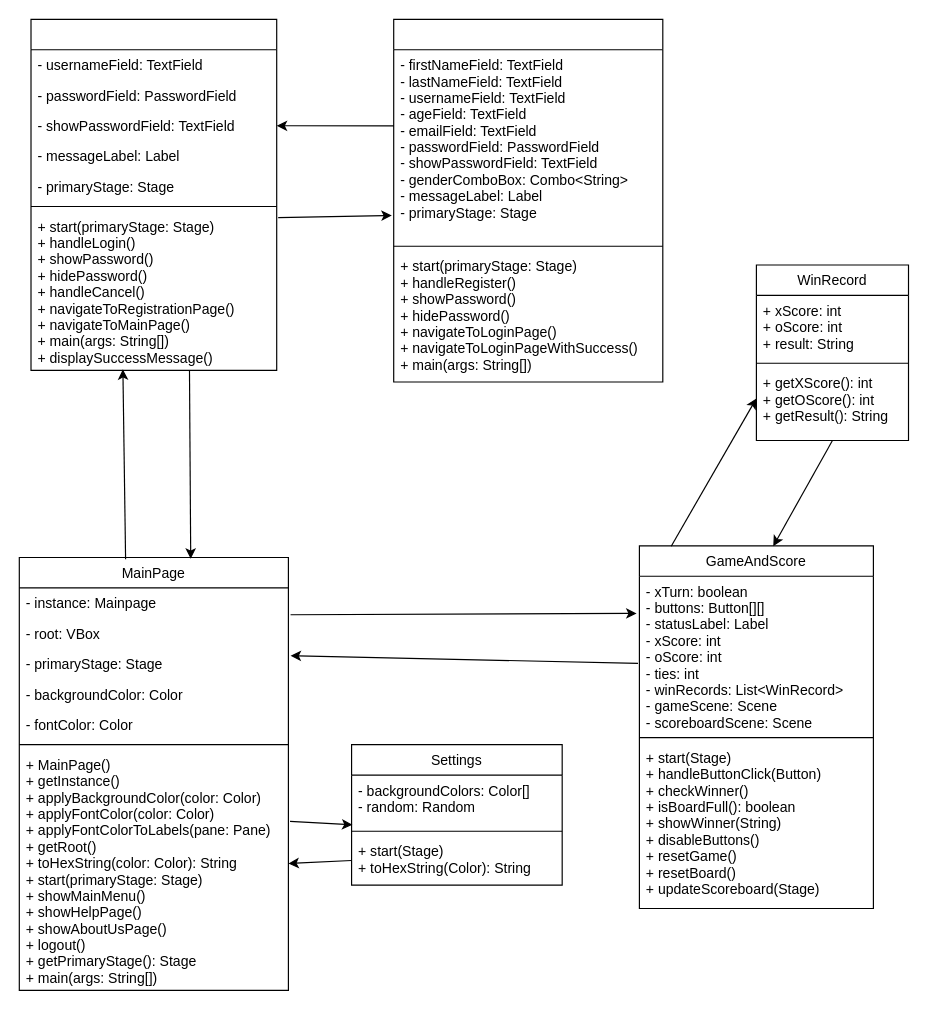
This 928x1010 diagram has some shape labels left out. Each missing label, with the box of its shape:
LoginPage: (30, 18, 277, 370)
RegistrationPage: (393, 18, 663, 382)
